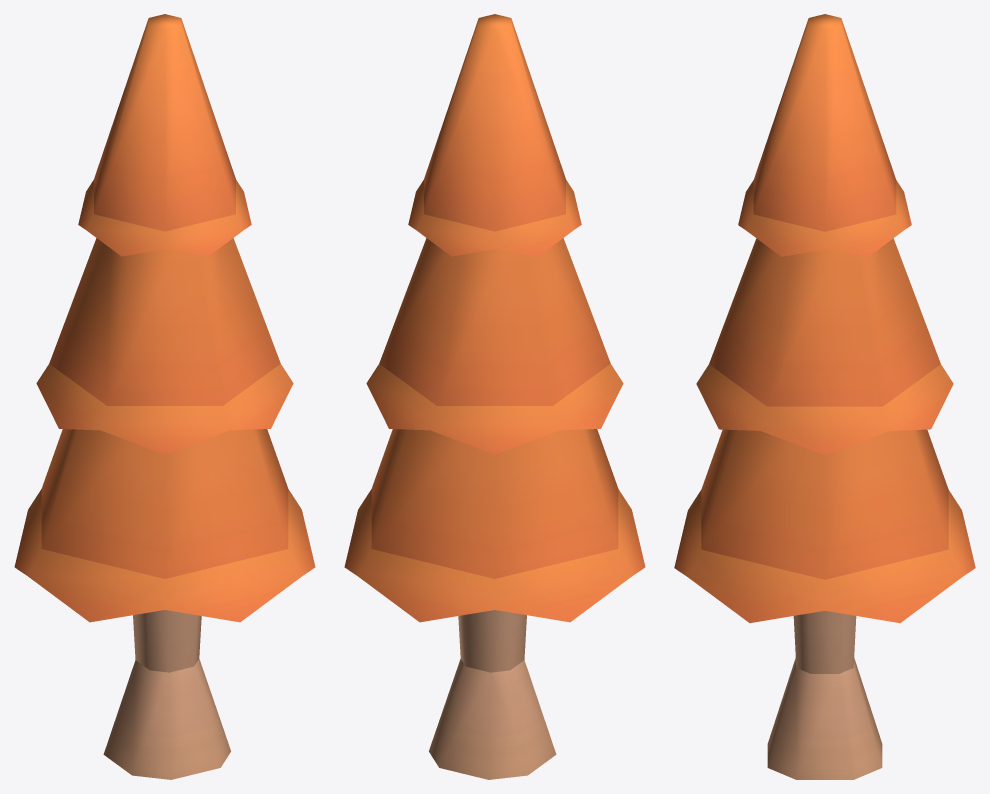
The model's file is tree-autumn.glb.
3 views of the same model, side by side, from view 1: azimuth 30°, elevation 25°; view 2: azimuth 150°, elevation 25°; view 3: azimuth 270°, elevation 25° (orthographic).
Visible parts, largest first — view 1: tree-autumn; view 2: tree-autumn; view 3: tree-autumn.
Boxes of the visible parts, left/top/right/bottom form: tree-autumn: left=14, top=14, right=315, bottom=779; tree-autumn: left=344, top=14, right=645, bottom=779; tree-autumn: left=674, top=14, right=975, bottom=779.
Bounding box in the file's own units: 0.5528 × 1.41 × 0.5262.
1 material, 1 textured.
